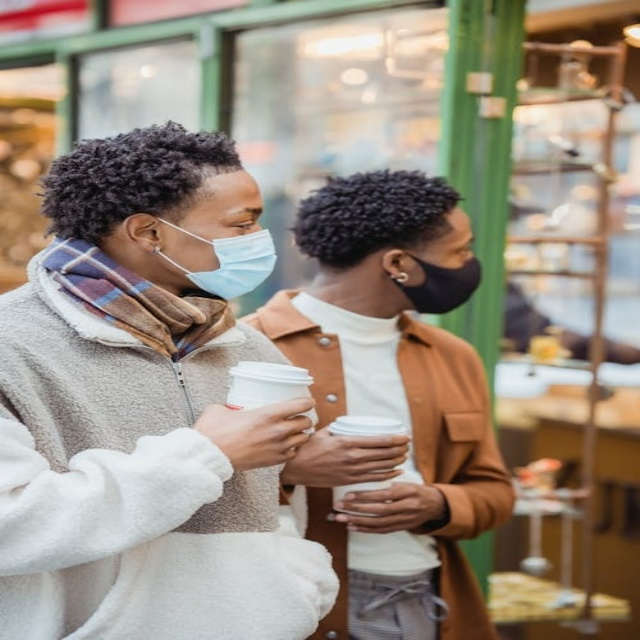Mascara: (155, 216, 277, 300), (394, 250, 482, 314)
Sin_gafas: (224, 209, 266, 236), (445, 237, 479, 263)
Sin_guantes: (198, 396, 322, 475), (314, 420, 411, 487), (329, 481, 436, 533)
